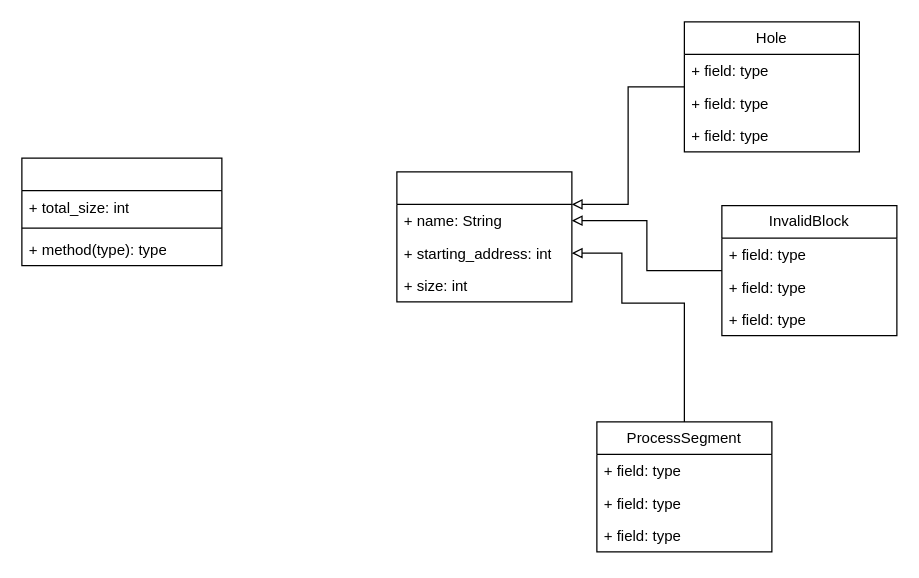
The diagram is 919 pixels wide and 578 high, and some of its shapes have lost their labels. The box of each missing label's shape, as (x1, y1, x2, y2) in pixels:
Memory: (21, 157, 222, 266)
Segment: (396, 171, 572, 302)
